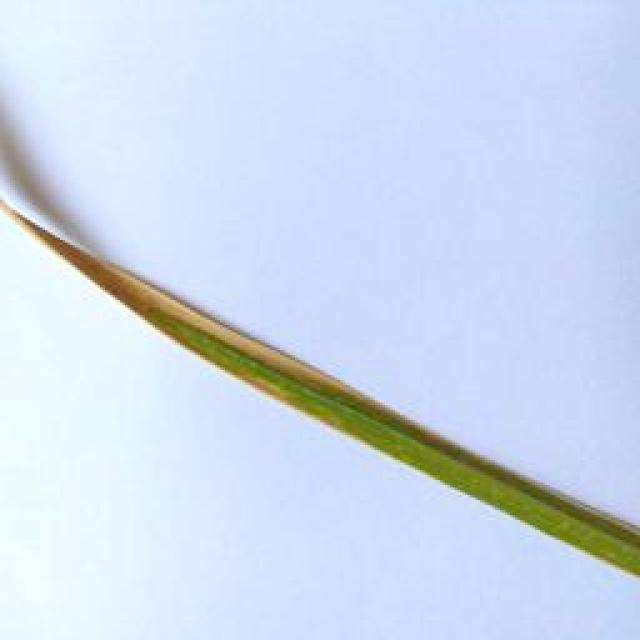Unhealthy: (0, 202, 436, 441)
